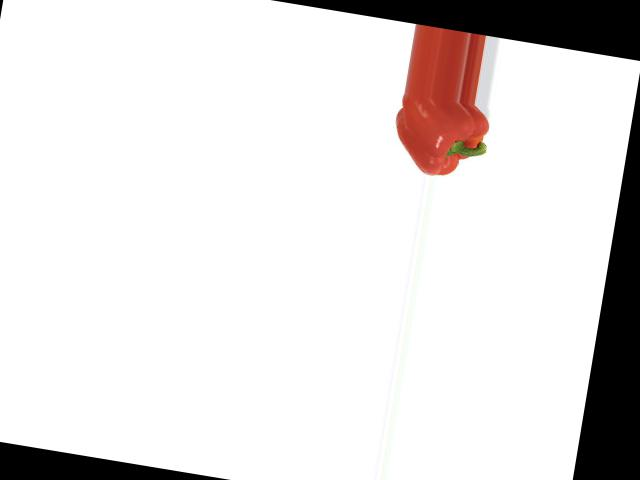bell_pepper: (377, 90, 506, 185)
